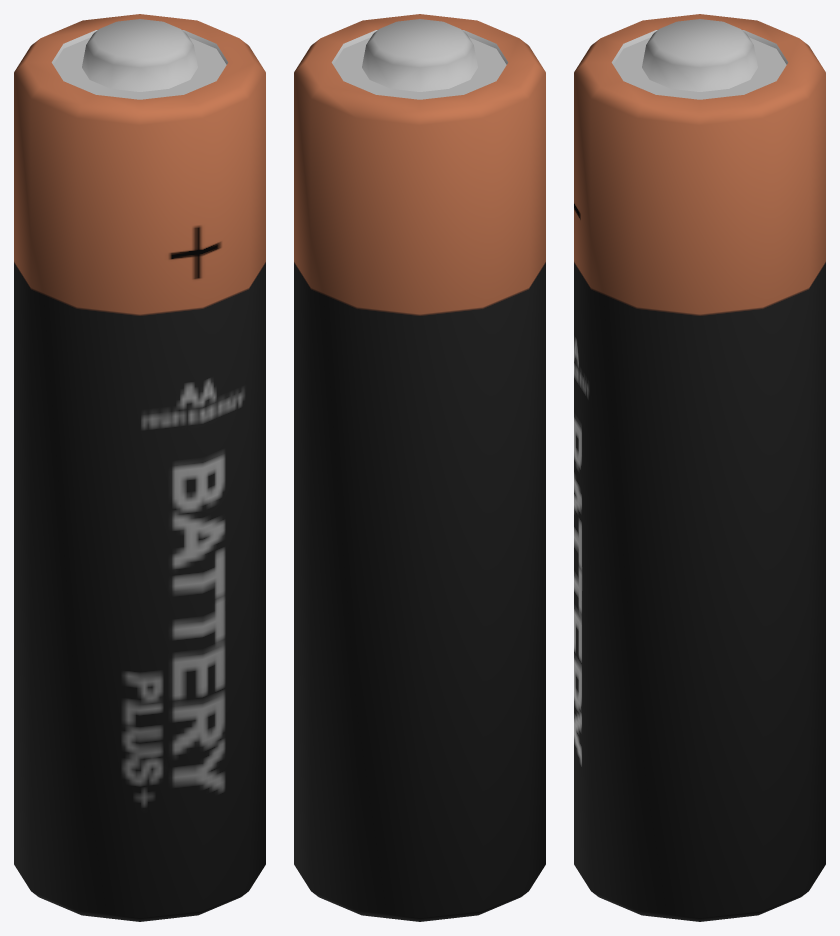
File: Battery.gltf
3 renders of one model, left to right at view 1: azimuth 30°, elevation 25°; view 2: azimuth 150°, elevation 25°; view 3: azimuth 270°, elevation 25°, orthographic.
Parts seen in each view (by area): view 1: node-0; view 2: node-0; view 3: node-0.
Boxes of the visible parts, x1,y1,x2,y2 form: node-0: (14,14,265,921); node-0: (294,14,545,921); node-0: (574,14,825,921).
Size of the model in its own units: 0.0142 by 0.0518 by 0.0142.
1 material, 1 textured.
